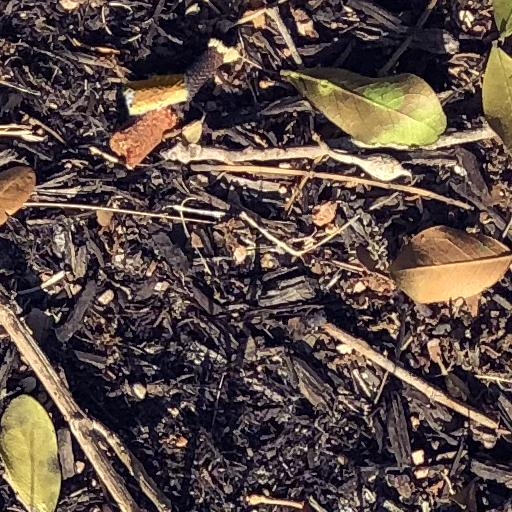smoke: (125, 75, 187, 114)
